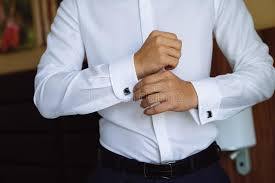F_belt: (87, 137, 231, 178)
